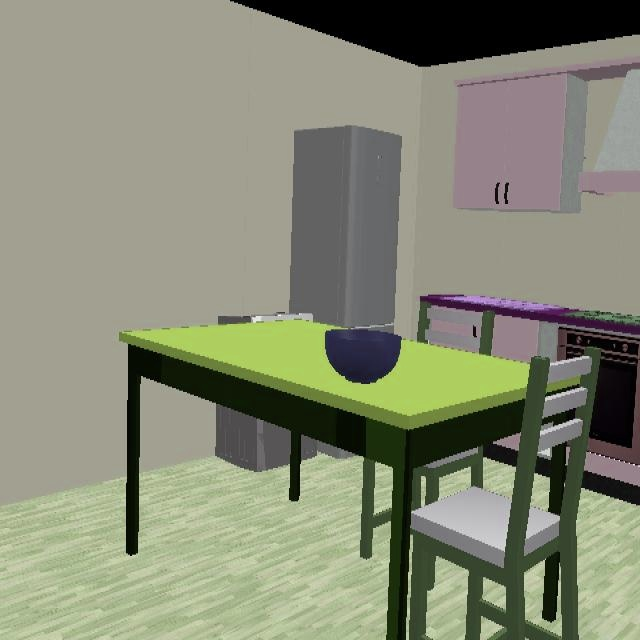cabinet: (453, 64, 640, 215), (491, 316, 560, 364)
chair: (361, 348, 600, 640), (425, 308, 483, 355)
fridge: (289, 125, 403, 329)
oven: (557, 313, 640, 467)
sink: (420, 296, 571, 324)
stove: (583, 301, 640, 316)
table: (121, 316, 530, 640)
